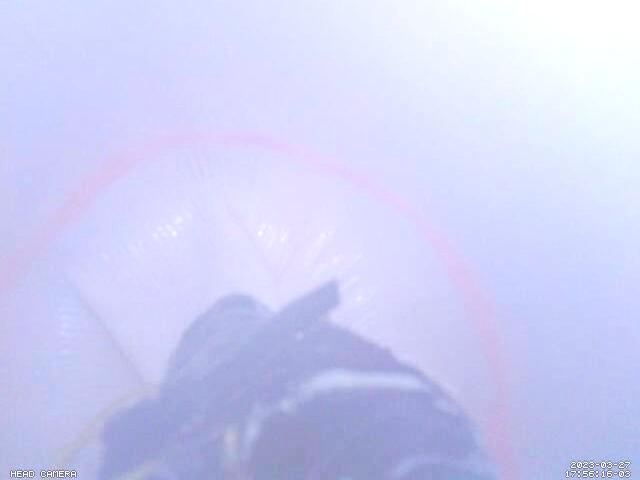head: (0, 129, 515, 480)
